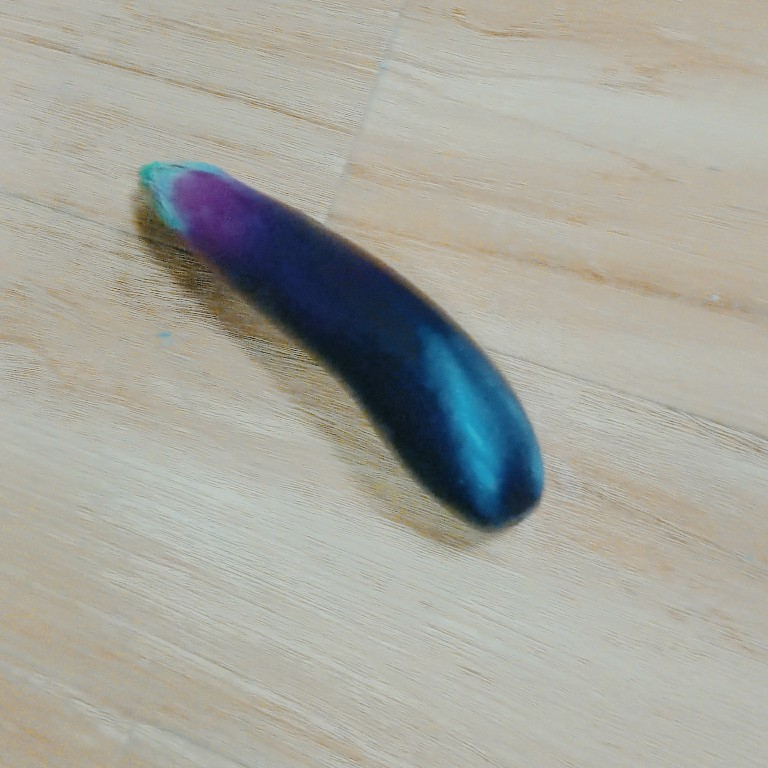fruit_eggplant: (131, 154, 549, 535)
